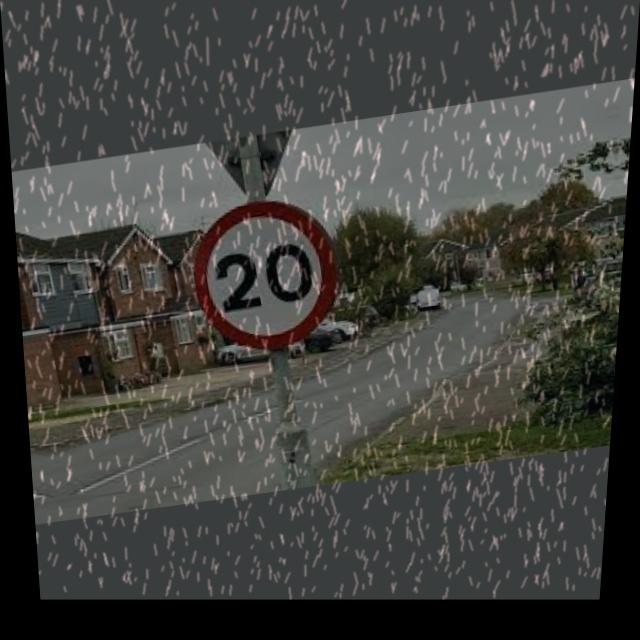Speed_Limit_20: (181, 191, 346, 355)
